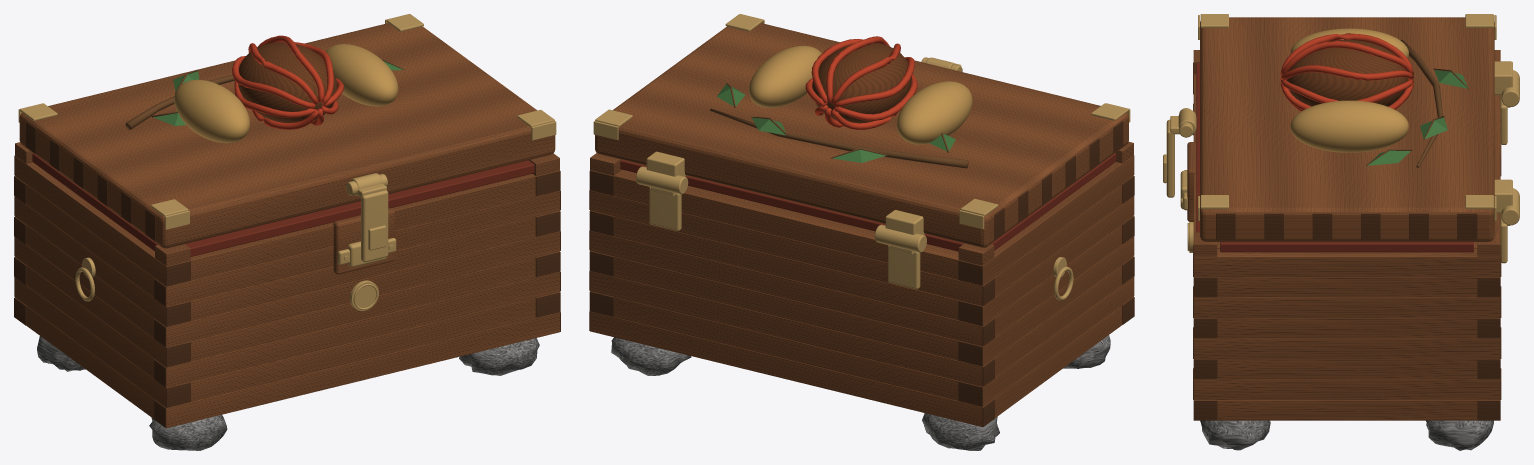
File: grenada.glb
3 views of the same model, side by side, from view 1: azimuth 30°, elevation 25°; view 2: azimuth 150°, elevation 25°; view 3: azimuth 270°, elevation 25° (orthographic).
Parts seen in each view (by area): view 1: Lid / polished slab, Spicewood / front course 0, Spicewood / front course 2, Spicewood / front course 4, Spicewood / front course 1, Spicewood / front course 3, Spicewood / front course 6, Spicewood / front course 7, Spicewood / front course 5, Mineral seam / long, Nutmeg / seed, Spicewood / side course 7 (+22 smaller); view 2: Lid / polished slab, Spicewood / rear course 2, Spicewood / rear course 4, Spicewood / rear course 0, Spicewood / rear course 7, Spicewood / rear course 5, Spicewood / rear course 1, Spicewood / rear course 3, Spicewood / rear course 6, Nutmeg / seed, Spicewood / side course 7, Fruit / split cheek -1 (+27 smaller); view 3: Lid / polished slab, Spicewood / side course 7.001, Spicewood / side course 5.001, Spicewood / side course 3.001, Spicewood / side course 1.001, Spicewood / side course 6.001, Spicewood / side course 0.001, Spicewood / side course 2.001, Spicewood / side course 4.001, Fruit / split cheek 1, Nutmeg / seed, Mineral seam / side.001 (+41 smaller).
Boxes of the visible parts, <box> form: Lid / polished slab: <box>19,23,555,248</box>; Spicewood / front course 0: <box>155,312,559,428</box>; Spicewood / front course 2: <box>155,271,559,387</box>; Spicewood / front course 4: <box>155,231,559,347</box>; Spicewood / front course 1: <box>190,298,535,401</box>; Spicewood / front course 3: <box>190,257,535,361</box>; Spicewood / front course 6: <box>155,191,559,306</box>; Spicewood / front course 7: <box>190,174,535,280</box>; Spicewood / front course 5: <box>190,217,535,320</box>; Mineral seam / long: <box>185,160,534,256</box>; Nutmeg / seed: <box>238,42,337,122</box>; Spicewood / side course 7: <box>14,156,190,286</box>; Lid / polished slab: <box>595,23,1128,247</box>; Spicewood / rear course 2: <box>590,271,994,386</box>; Spicewood / rear course 4: <box>590,230,994,346</box>; Spicewood / rear course 0: <box>590,311,993,426</box>; Spicewood / rear course 7: <box>614,170,958,279</box>; Spicewood / rear course 5: <box>614,216,958,320</box>; Spicewood / rear course 1: <box>614,297,958,400</box>; Spicewood / rear course 3: <box>614,256,958,360</box>; Spicewood / rear course 6: <box>590,190,993,305</box>; Nutmeg / seed: <box>812,43,911,123</box>; Spicewood / side course 7: <box>959,155,1133,285</box>; Fruit / split cheek -1: <box>897,81,972,144</box>; Lid / polished slab: <box>1200,17,1494,241</box>; Spicewood / side course 7.001: <box>1194,249,1500,277</box>; Spicewood / side course 5.001: <box>1194,297,1500,318</box>; Spicewood / side course 3.001: <box>1194,338,1500,359</box>; Spicewood / side course 1.001: <box>1194,379,1500,399</box>; Spicewood / side course 6.001: <box>1217,277,1477,297</box>; Spicewood / side course 0.001: <box>1217,400,1477,420</box>; Spicewood / side course 2.001: <box>1217,359,1477,379</box>; Spicewood / side course 4.001: <box>1217,318,1477,338</box>; Fruit / split cheek 1: <box>1290,100,1408,152</box>; Nutmeg / seed: <box>1286,39,1407,106</box>; Mineral seam / side.001: <box>1220,242,1473,252</box>.
Bounding box in the file's own units: 3.79 × 2.94 × 2.88.
Materials: 10 (4 with a texture image).
